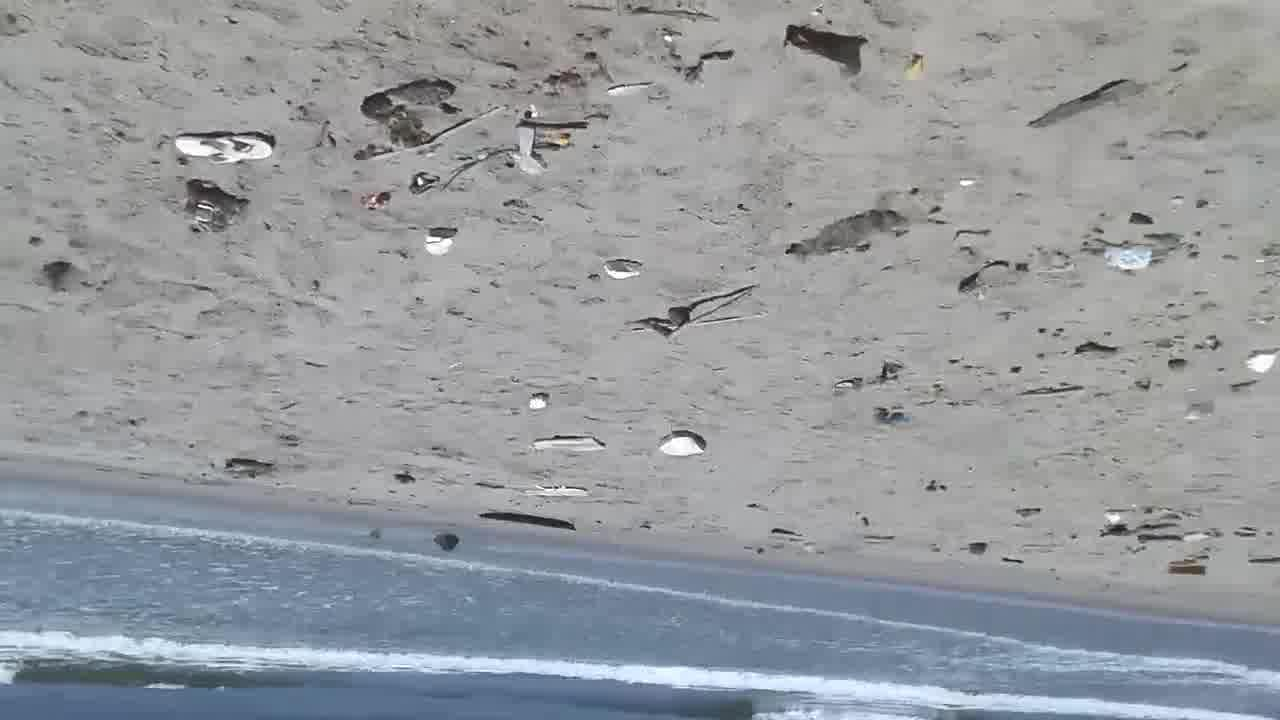obj: (622, 286, 769, 344), (1021, 81, 1150, 131), (798, 212, 898, 255), (360, 80, 454, 122), (185, 179, 248, 233), (172, 133, 278, 162), (477, 509, 579, 530), (516, 122, 548, 180), (529, 432, 608, 453), (958, 262, 1009, 294), (655, 430, 705, 461), (40, 256, 80, 292), (389, 112, 428, 148), (1102, 246, 1154, 272), (224, 460, 278, 481), (424, 227, 460, 258), (598, 81, 648, 102), (520, 485, 592, 498), (1022, 386, 1084, 400), (869, 408, 909, 429), (1167, 557, 1212, 575), (602, 262, 642, 282), (1244, 350, 1276, 374), (1076, 342, 1120, 359), (904, 52, 924, 82), (1103, 508, 1139, 524), (1183, 405, 1218, 421), (436, 532, 460, 552), (1012, 508, 1040, 520), (542, 135, 566, 149), (834, 378, 856, 393), (954, 176, 980, 188), (773, 529, 805, 538), (530, 394, 546, 412), (968, 542, 988, 556)
sand/background: (1, 481, 1279, 719)
